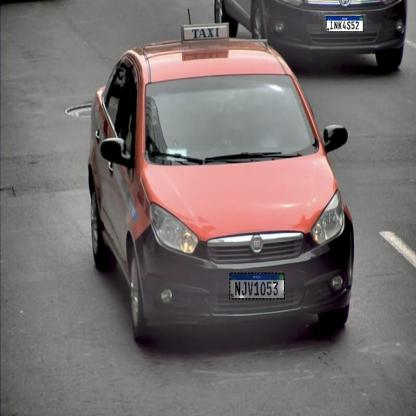PlacaM: (229, 272, 285, 300), (326, 16, 364, 32)
